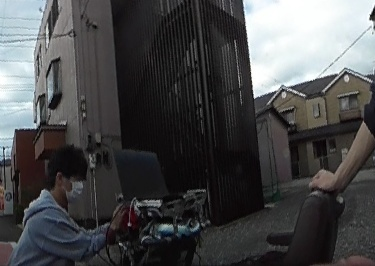person: (14, 144, 127, 266)
